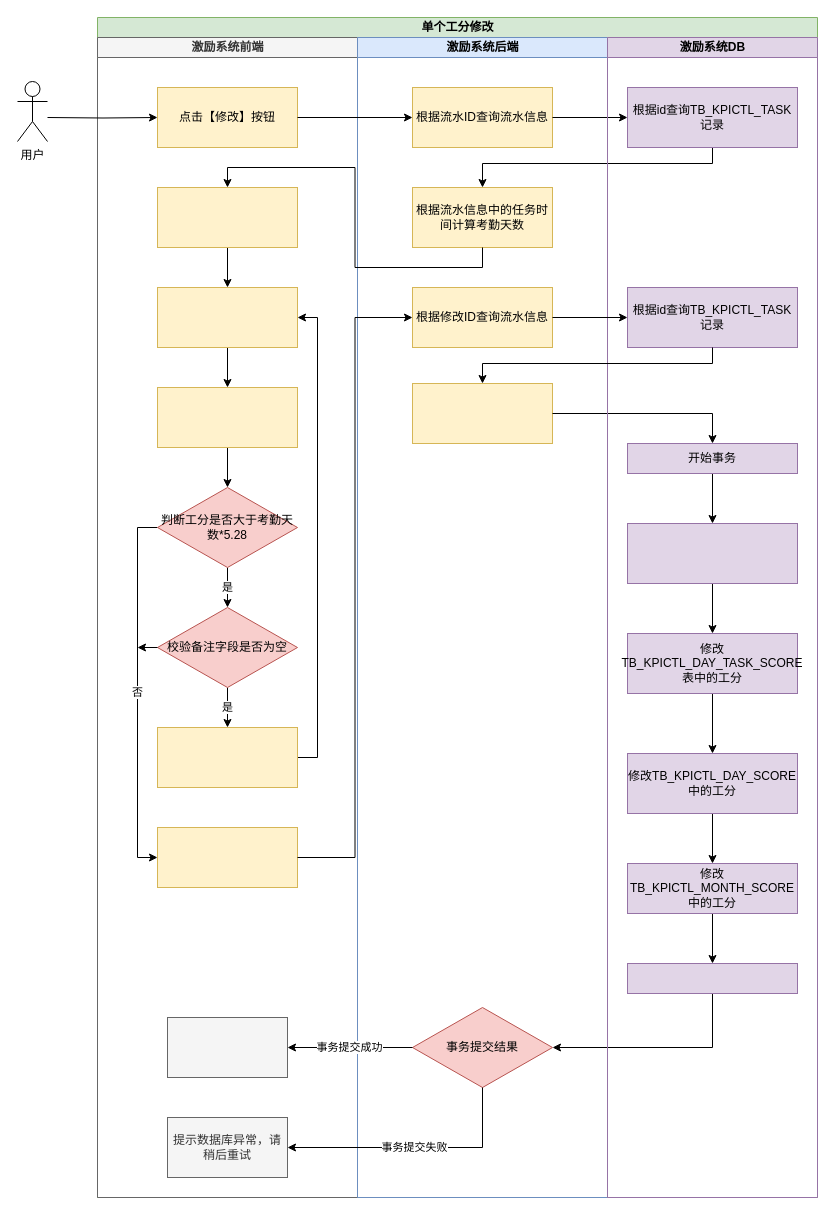
Some shapes in this 835 by 1215 pixel diagram are drawn without their labels. Here are the shapes that lost their labels. From the top down, the centre of each, then its label:
At (227,217): "展示修改表单".
At (227,317): "用户修改工分数据（除工分和备注外，其他字段置灰不可修改）".
At (227,417): "用户点击【提交】按钮".
At (482,413): "根据修改前工分和修改后工分和考勤天数计算出每天应该修改的分数和每月应该修改的分数".
At (712,553): "修改TB_KPICTL_TASK表中的工分和备注".
At (227,757): "提示【工分值超过正常值10%，请填写备注】".
At (227,857): "页面发起修改请求".
At (712,978): "提交事务".
At (227,1047): "提示工分修改成功".
